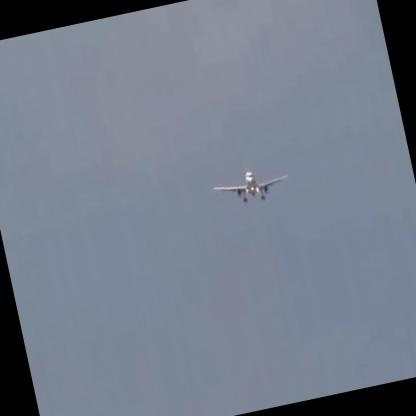plane: (209, 163, 292, 211)
